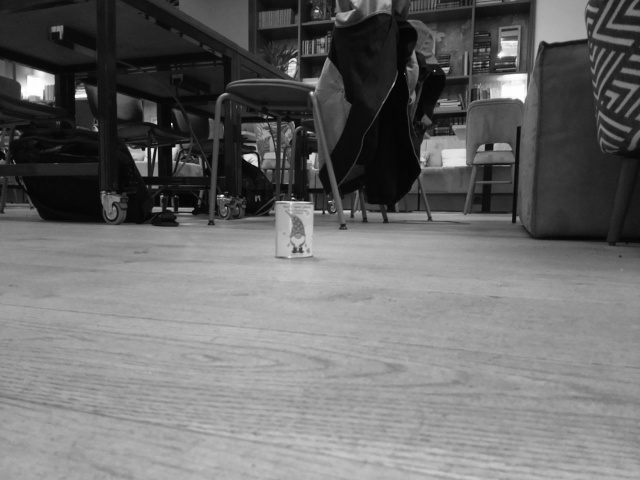gnome: (279, 209, 311, 256)
